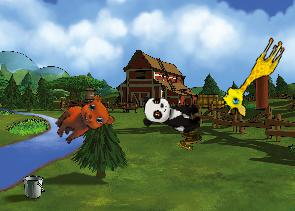bear: (49, 87, 119, 156)
giraffe: (216, 29, 288, 122)
panda: (140, 94, 203, 134)
